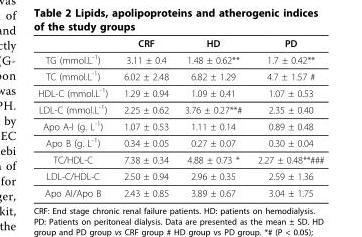table: (37, 37, 323, 198)
table column: (37, 37, 115, 198), (175, 37, 249, 198), (249, 37, 323, 198), (115, 37, 175, 198)
table column header: (37, 37, 323, 50)
table row: (37, 133, 323, 151), (37, 50, 323, 67), (37, 83, 323, 100), (37, 100, 323, 117), (37, 167, 323, 184), (37, 67, 323, 83), (37, 117, 323, 133), (37, 151, 323, 167), (37, 184, 323, 198), (37, 37, 323, 50)
